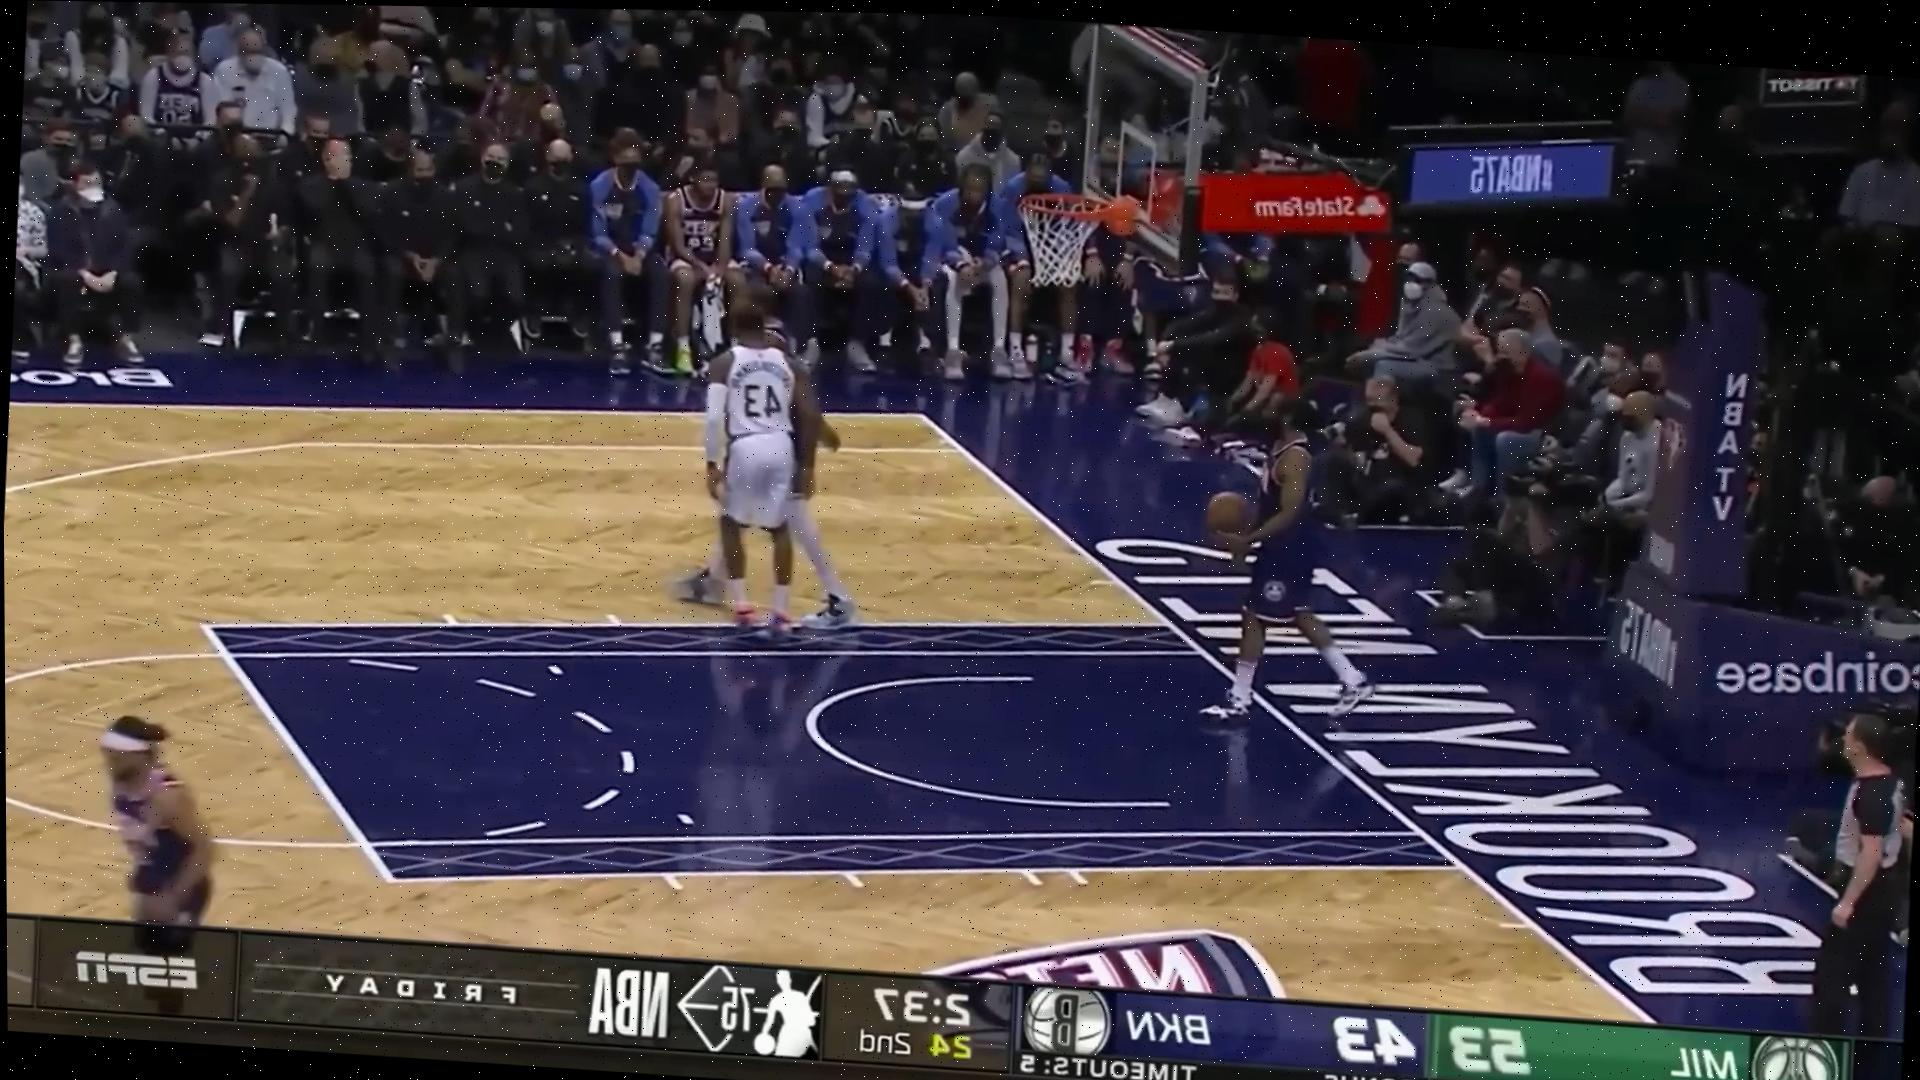no_foul: (658, 284, 881, 648)
